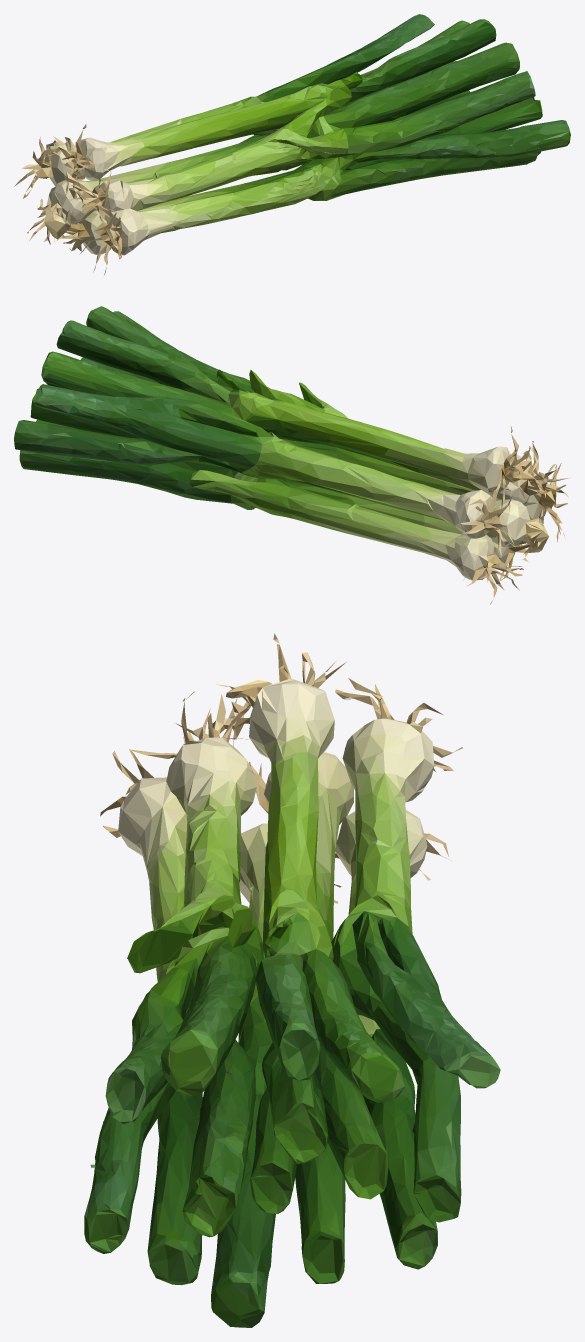
The model's file is scallion.glb.
The picture shows the model from 3 angles, top to bottom: view 1: azimuth 30°, elevation 25°; view 2: azimuth 150°, elevation 25°; view 3: azimuth 270°, elevation 25°; orthographic projection. The views are drawn at different scales.
Parts seen in each view (by area): view 1: geometry_0; view 2: geometry_0; view 3: geometry_0.
Part boxes in pixels (x1=…): geometry_0: x1=14, y1=14, x2=570, y2=275; geometry_0: x1=14, y1=306, x2=570, y2=604; geometry_0: x1=84, y1=633, x2=500, y2=1327.
Size of the model in its own units: 0.26 by 0.0709 by 0.0971.
Materials: 1 (1 with a texture image).
